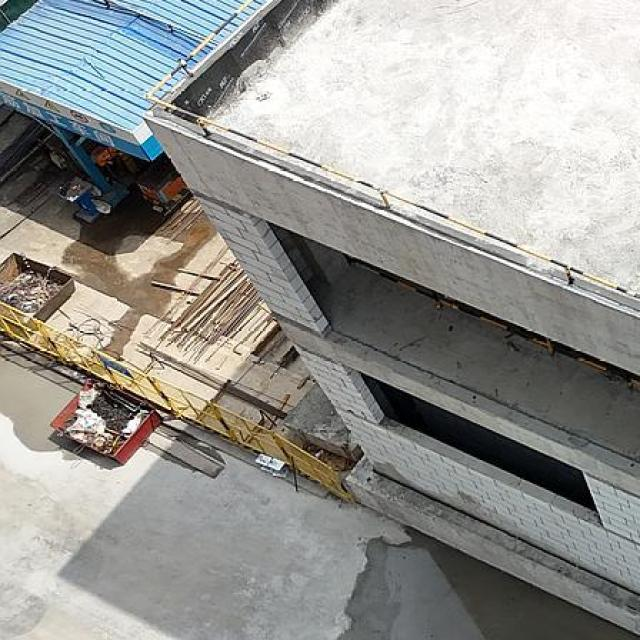edge_guardrail: (143, 0, 640, 300), (353, 260, 640, 391)
